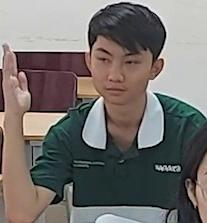Raising_Hand: (0, 0, 184, 216)
